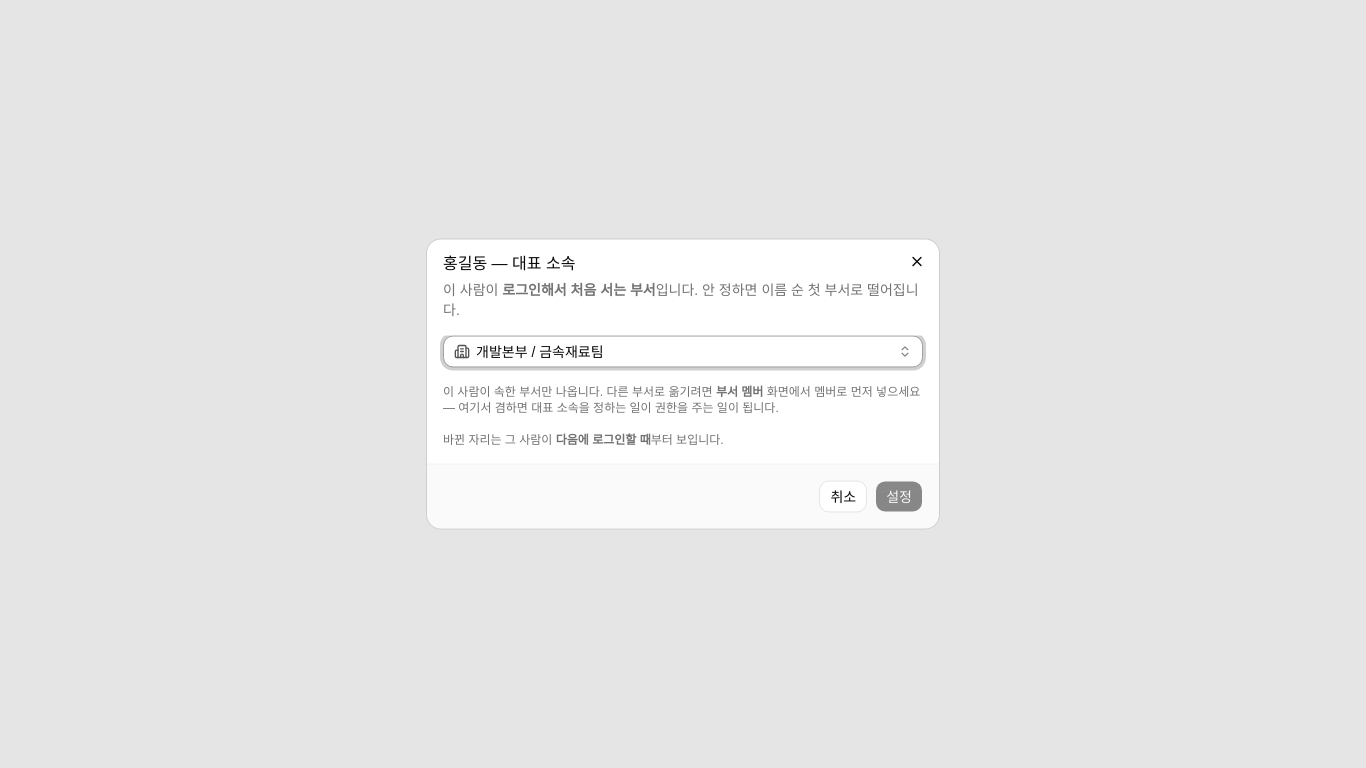
Test case: 대표 소속 › 그 사람이 속한 부서만 고를 수 있다
Click the button "개발본부 / 금속재료팀": (540, 352) [443,336,923,368]
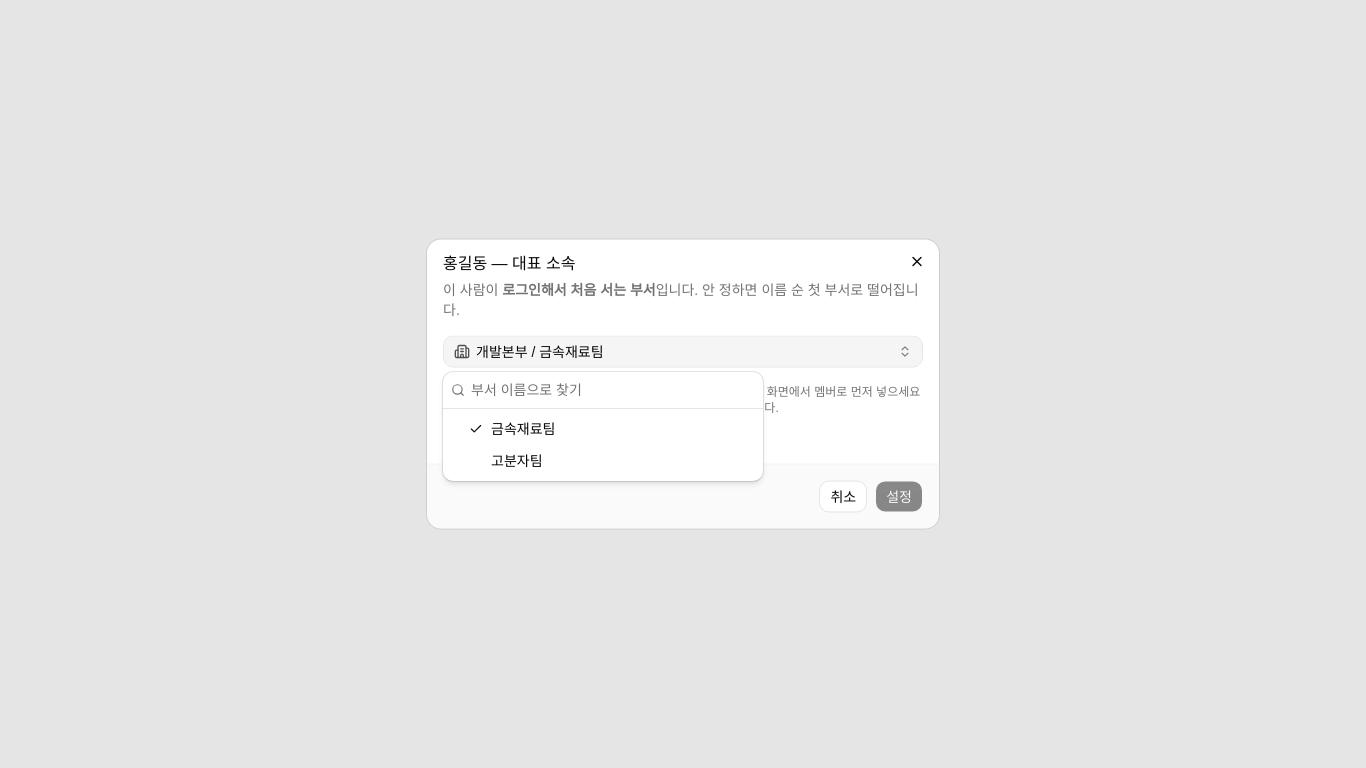
Result: the text "고분자팀" is shown at [491,453,542,469]
